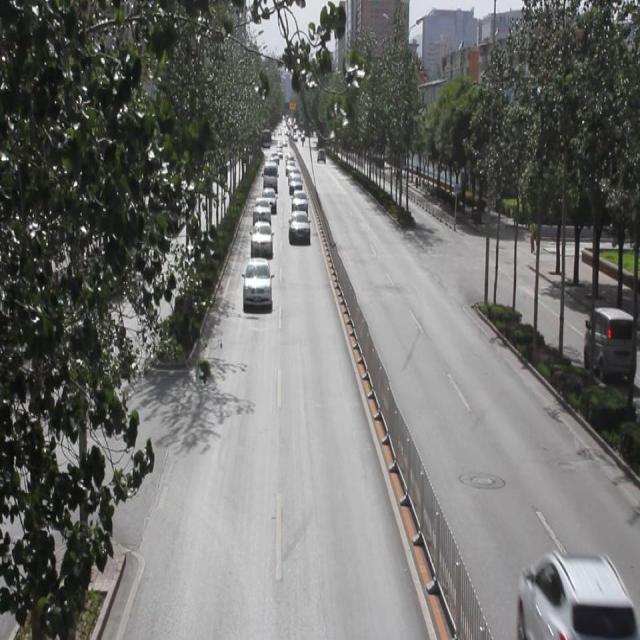car: (518, 553, 627, 640), (242, 255, 270, 309), (251, 219, 272, 260), (289, 210, 309, 243), (254, 196, 272, 227), (260, 185, 277, 213), (290, 188, 308, 214)
truck: (584, 303, 640, 385)
